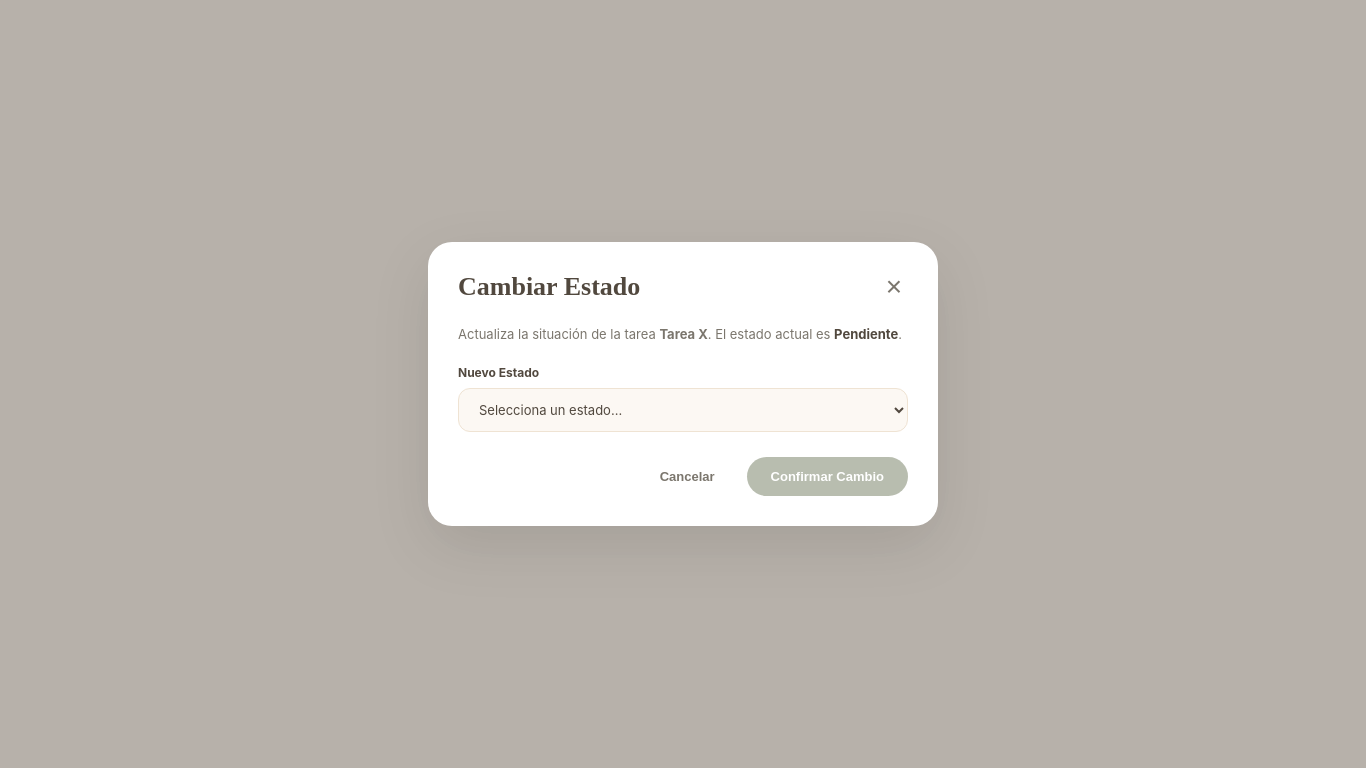
Scenario: CambiarEstadoModal › muestra el mensaje de error si el servicio falla
Select "En progreso" in the dropdown labelled "Nuevo Estado" at (683, 410), box [458,388,908,432]
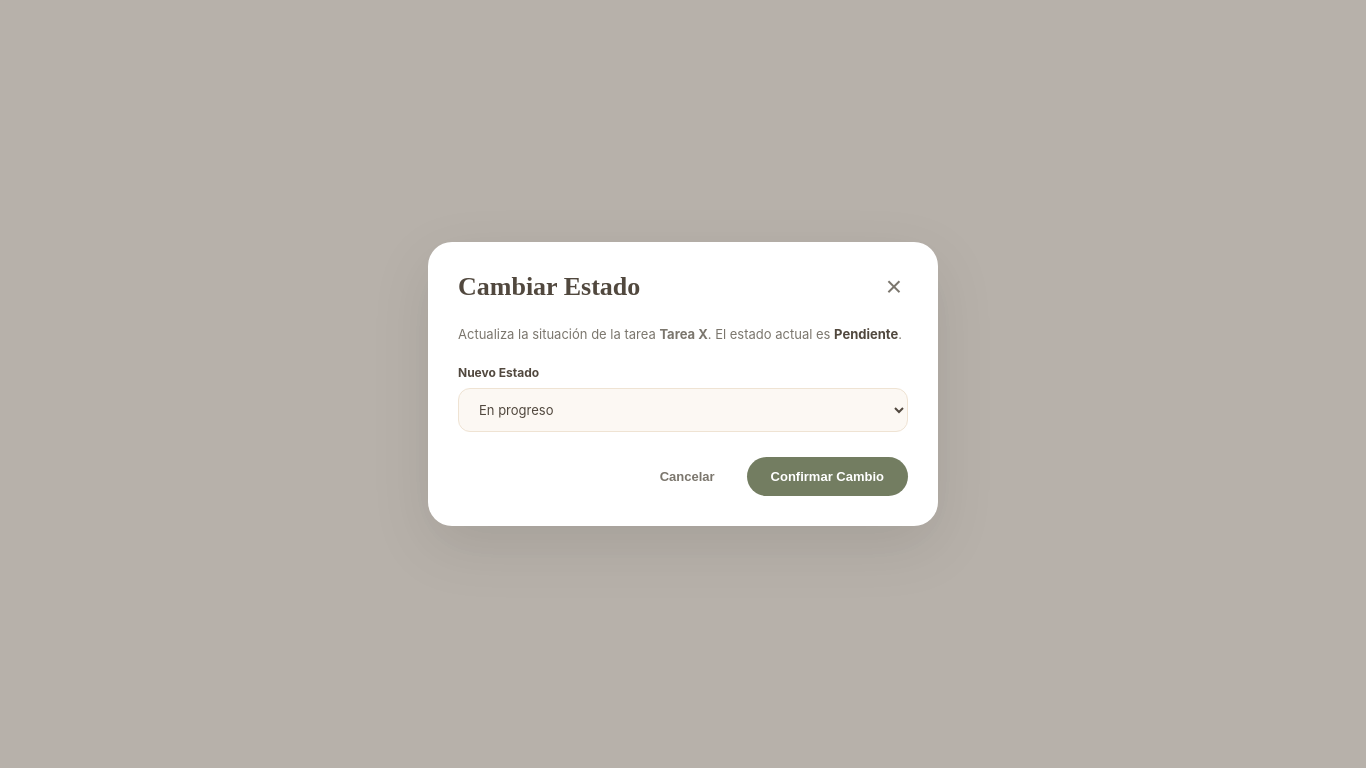
Click the button with class "btn-guardar" at (827, 476), box [747,457,908,496]
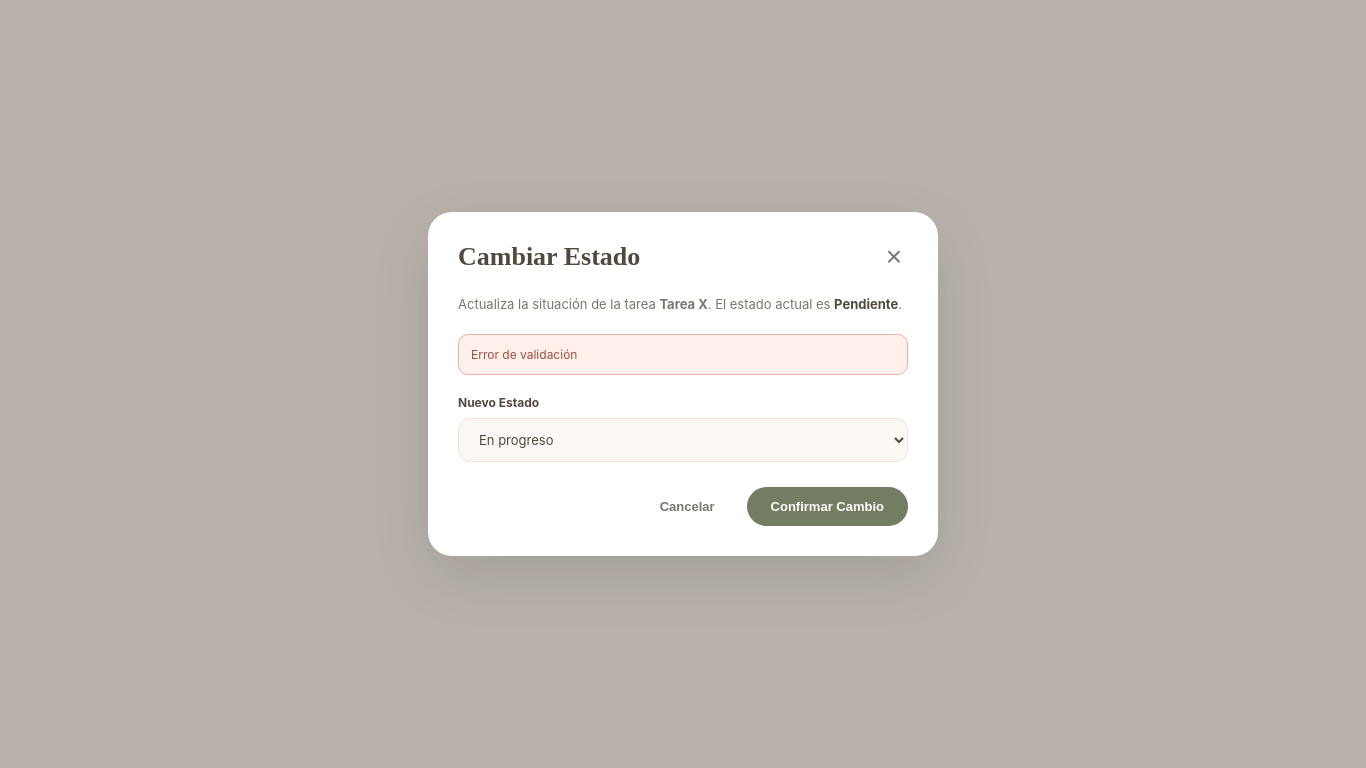
Now the text with class "modal-error" reads "Error de validación", box [471,347,577,362]
